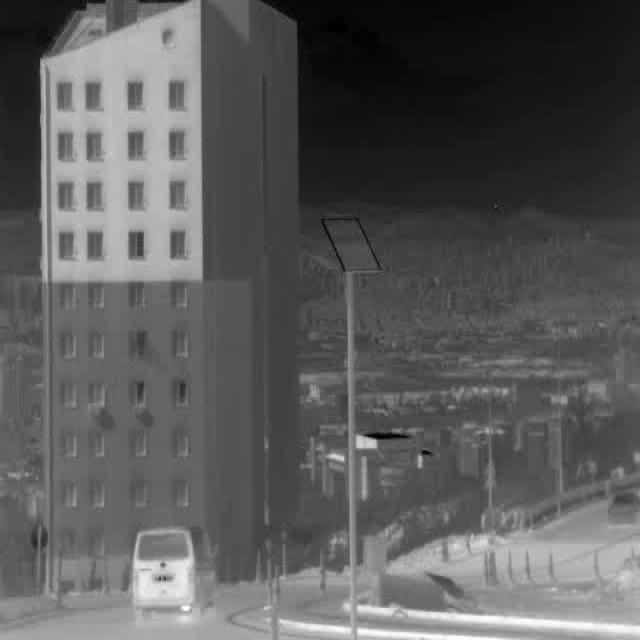Car: (128, 523, 222, 622), (606, 491, 640, 529)
